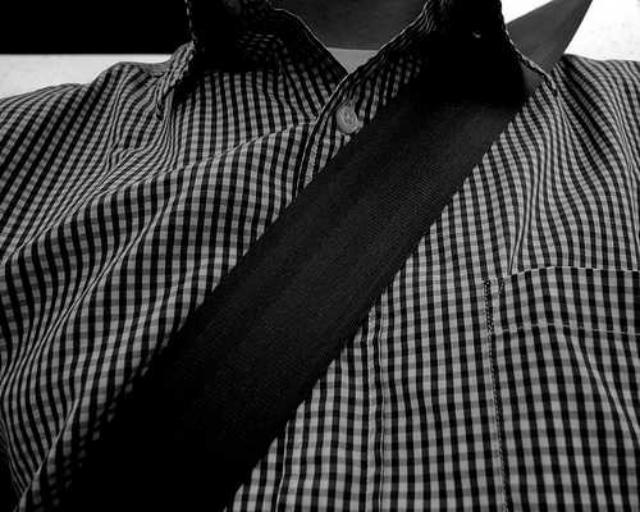Seatbelt: (73, 0, 597, 512)
